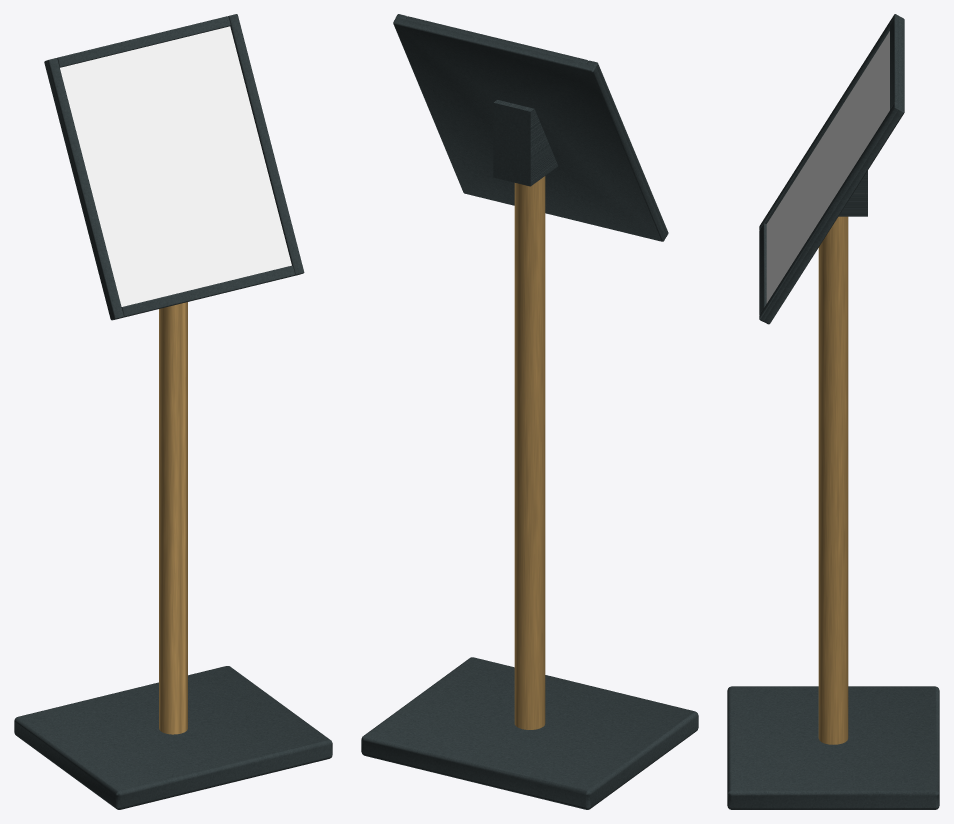
Rendered from preview.glb.
3 views of the same model, side by side, from view 1: azimuth 30°, elevation 25°; view 2: azimuth 150°, elevation 25°; view 3: azimuth 270°, elevation 25° (orthographic). The views are drawn at different scales.
Parts seen in each view (by area): view 1: MenuPedestal; view 2: MenuPedestal; view 3: MenuPedestal.
Part boxes in pixels (bbox=[...]): MenuPedestal: bbox=[14, 14, 332, 809]; MenuPedestal: bbox=[361, 14, 698, 809]; MenuPedestal: bbox=[727, 14, 939, 809].
Bounding box in the file's own units: 0.43 × 1.31 × 0.36.
3 materials, 2 textured.
